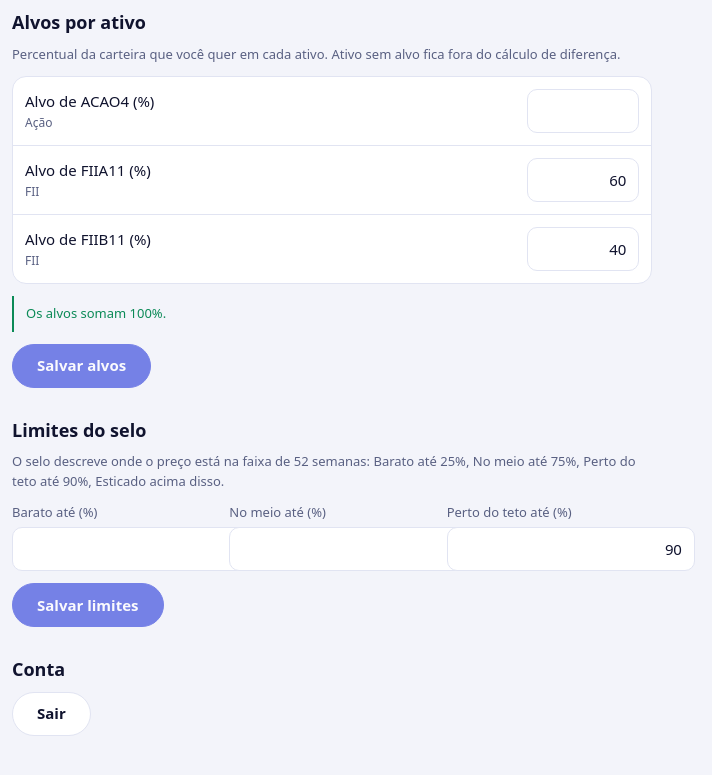
it: Configurações: alvos › um campo inválido bloqueia o salvamento de todos, e o erro some ao corrigir
Replace the text in the field labelled "Alvo de FIIA11 (%)" with "50": (583,180) [527,158,639,202]
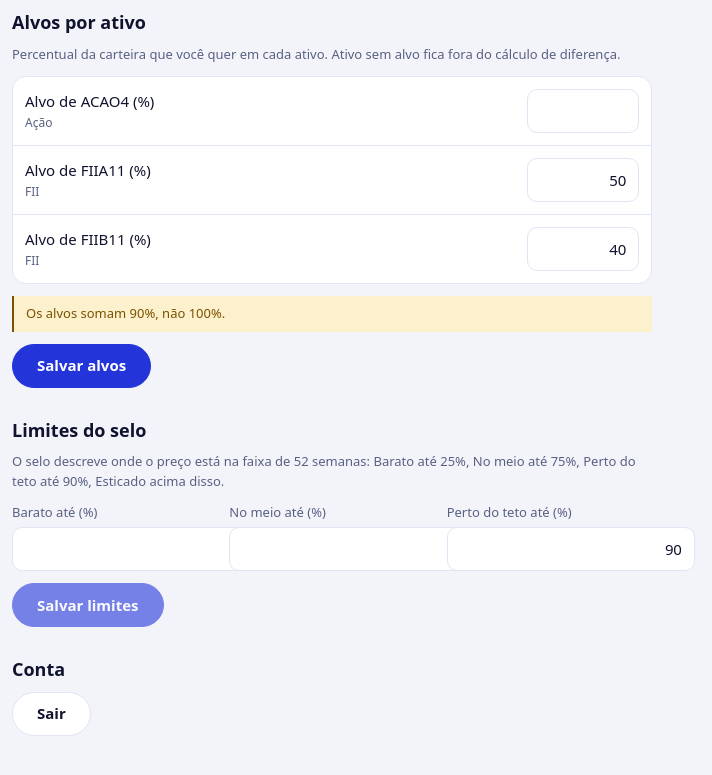
In the field labelled "Alvo de ACAO4 (%)": (583,111) [527,89,639,133], type "-1"
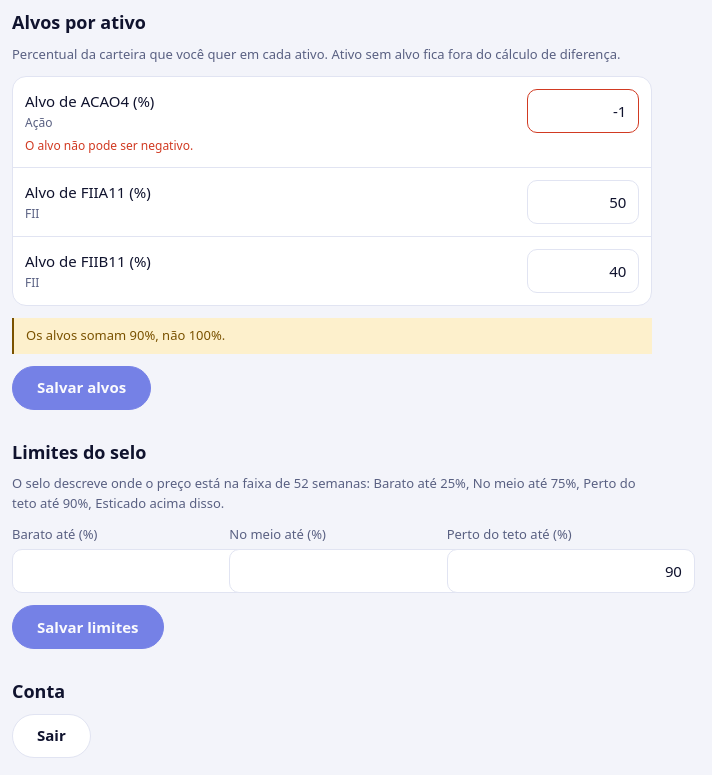
Expected: the button "Salvar alvos" is disabled, [12,366,151,410]
Replace the text in the field labelled "Alvo de ACAO4 (%)" with "10": (583,111) [527,89,639,133]
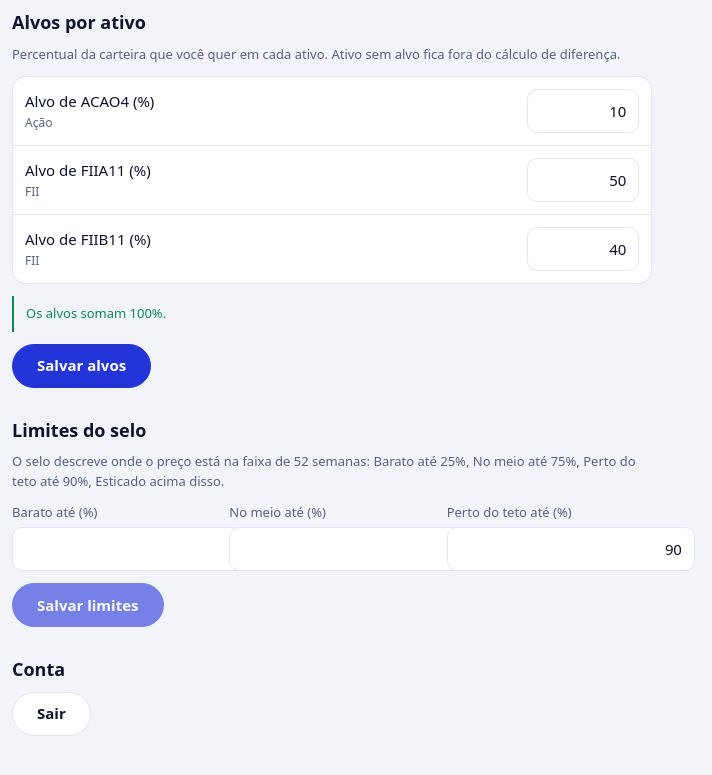
Expected: the button "Salvar alvos" is enabled, [12,344,151,388]
